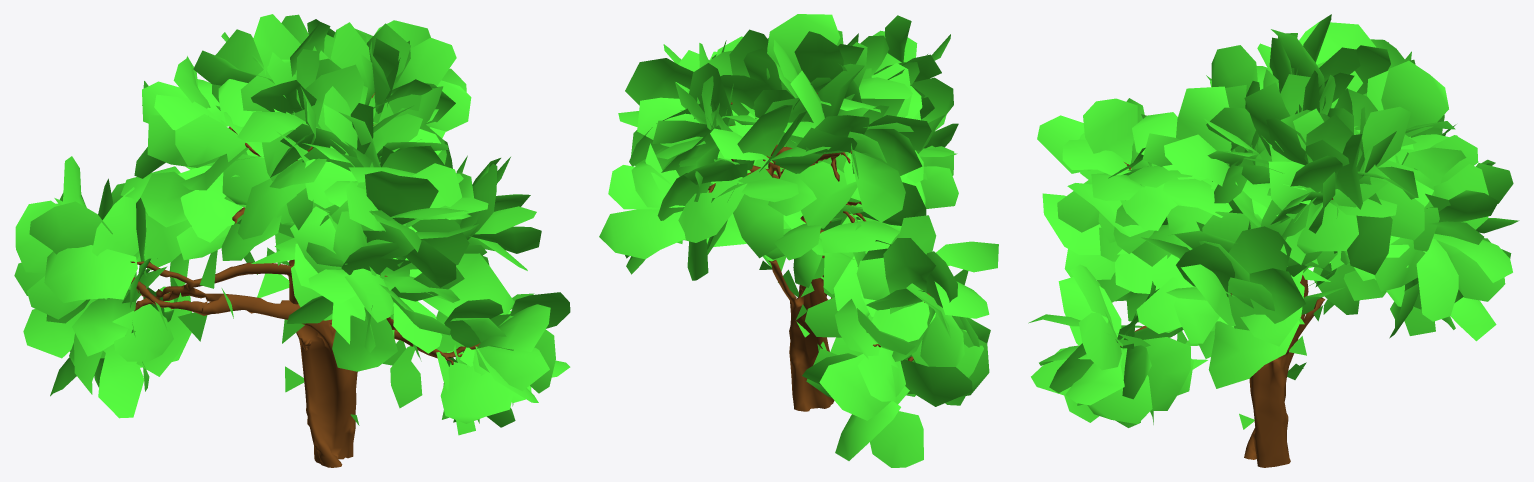
The model's file is MSH_Vegetation_Bristlecone_02.fbx.
3 views of the same model, side by side, from view 1: azimuth 30°, elevation 25°; view 2: azimuth 150°, elevation 25°; view 3: azimuth 270°, elevation 25° (orthographic). The views are drawn at different scales.
Parts seen in each view (by area): view 1: BRANCH_LOD0, TRUNK_LOD0; view 2: BRANCH_LOD0, TRUNK_LOD0; view 3: BRANCH_LOD0, TRUNK_LOD0.
Boxes of the visible parts, bbox=[...] form: BRANCH_LOD0: bbox=[14, 14, 570, 435]; TRUNK_LOD0: bbox=[130, 92, 480, 467]; BRANCH_LOD0: bbox=[599, 14, 998, 467]; TRUNK_LOD0: bbox=[708, 93, 930, 411]; BRANCH_LOD0: bbox=[1028, 14, 1519, 429]; TRUNK_LOD0: bbox=[1120, 162, 1333, 467].
Size of what is drawn, in the model's own units: 332 by 325 by 340.
